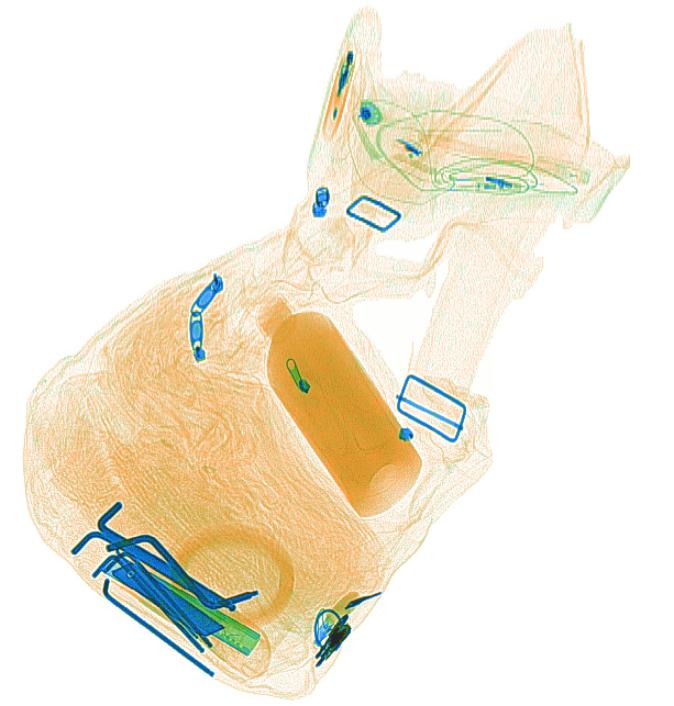knife: (103, 559, 271, 676)
